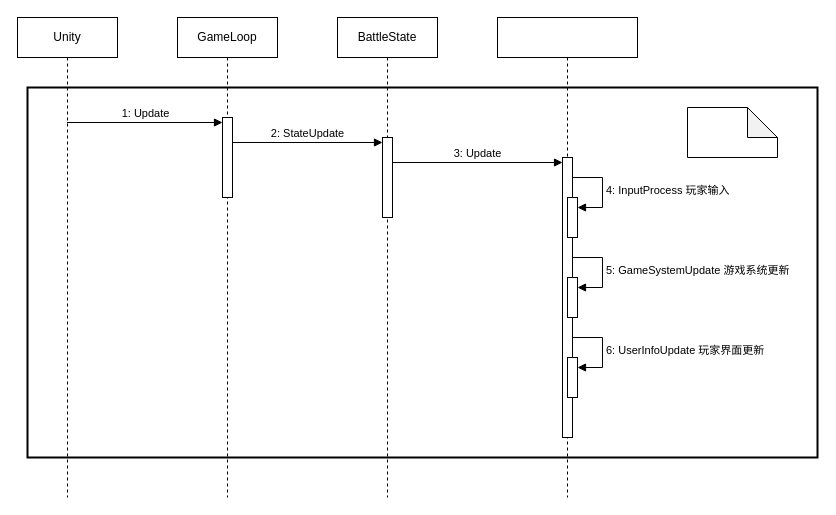
Some shapes in this 836 by 515 pixel diagram are drawn without their labels. The shapes that lost their labels are listed below. From the top down, each one's box as (x1, y1, x2, y2) in pixels, then its label:
(686, 106, 778, 158): 游戏循环
(496, 16, 638, 498): PBaseDefenseGame
